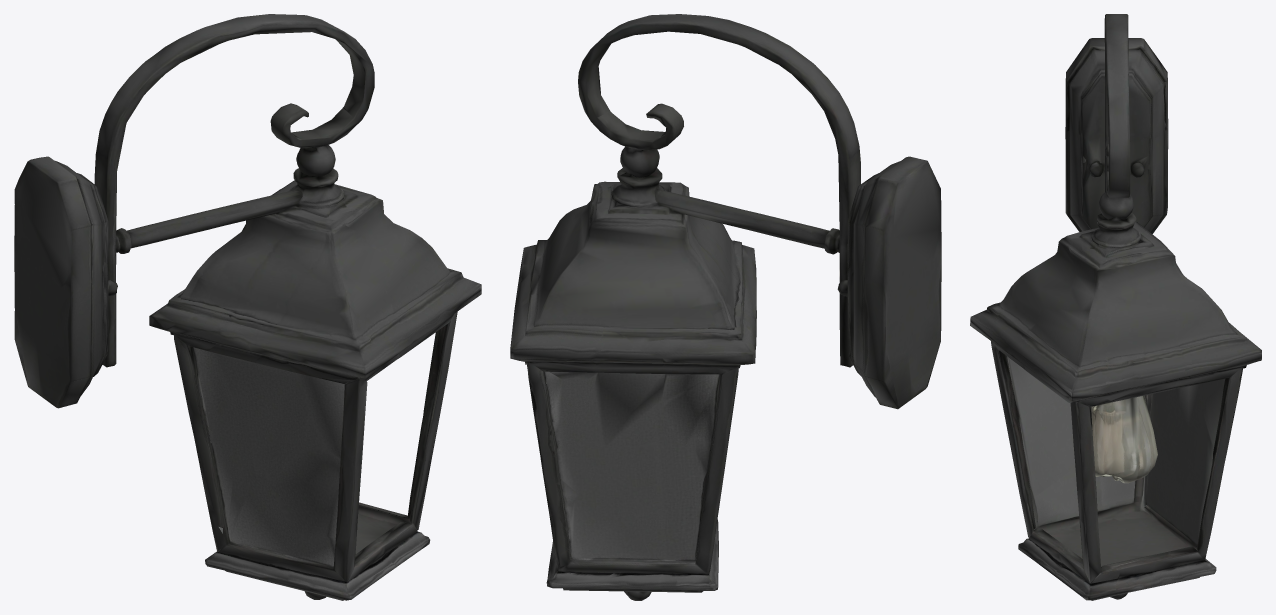
File: lantern.glb
3 views of the same model, side by side, from view 1: azimuth 30°, elevation 25°; view 2: azimuth 150°, elevation 25°; view 3: azimuth 270°, elevation 25° (orthographic). The views are drawn at different scales.
Parts seen in each view (by area): view 1: tripo_node_d0acc25a-cbff-4f93-b70c-04f4e6ec9c09; view 2: tripo_node_d0acc25a-cbff-4f93-b70c-04f4e6ec9c09; view 3: tripo_node_d0acc25a-cbff-4f93-b70c-04f4e6ec9c09.
Part boxes in pixels (x1,y1,x2,y2): tripo_node_d0acc25a-cbff-4f93-b70c-04f4e6ec9c09: (14,14,481,600); tripo_node_d0acc25a-cbff-4f93-b70c-04f4e6ec9c09: (510,14,941,600); tripo_node_d0acc25a-cbff-4f93-b70c-04f4e6ec9c09: (970,14,1261,600).
Size of the model in its own units: 0.3638 by 0.4996 by 0.249.
1 material, 1 textured.
